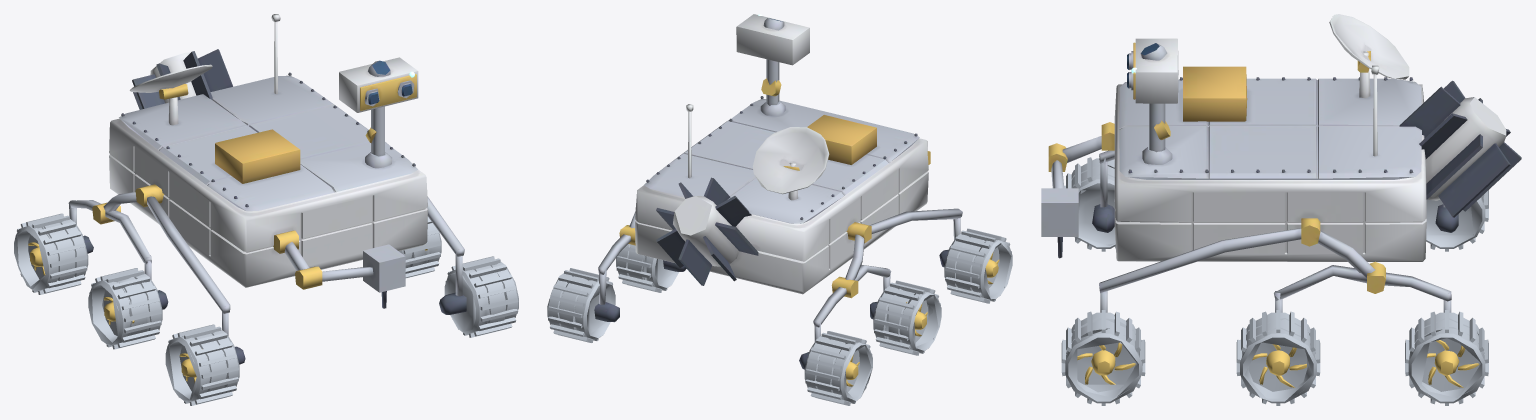
File: mars-rover.glb
The picture shows the model from 3 angles, left to right: view 1: azimuth 30°, elevation 25°; view 2: azimuth 150°, elevation 25°; view 3: azimuth 270°, elevation 25°; orthographic projection. The views are drawn at different scales.
Parts seen in each view (by area): view 1: mars-rover_body, mars-rover_wheel_front_l; view 2: mars-rover_body, mars-rover_wheel_front_l; view 3: mars-rover_body, mars-rover_wheel_front_l.
Boxes of the visible parts, box(x1,y1,x2,y2) form: mars-rover_body: box(68, 14, 466, 364); mars-rover_wheel_front_l: box(14, 213, 518, 405); mars-rover_body: box(594, 14, 962, 369); mars-rover_wheel_front_l: box(547, 225, 1012, 405); mars-rover_body: box(1041, 14, 1521, 312); mars-rover_wheel_front_l: box(1061, 157, 1488, 405).
Bounding box in the file's own units: 2.7 × 2.17 × 3.08.
Materials: 5 (1 with a texture image).
